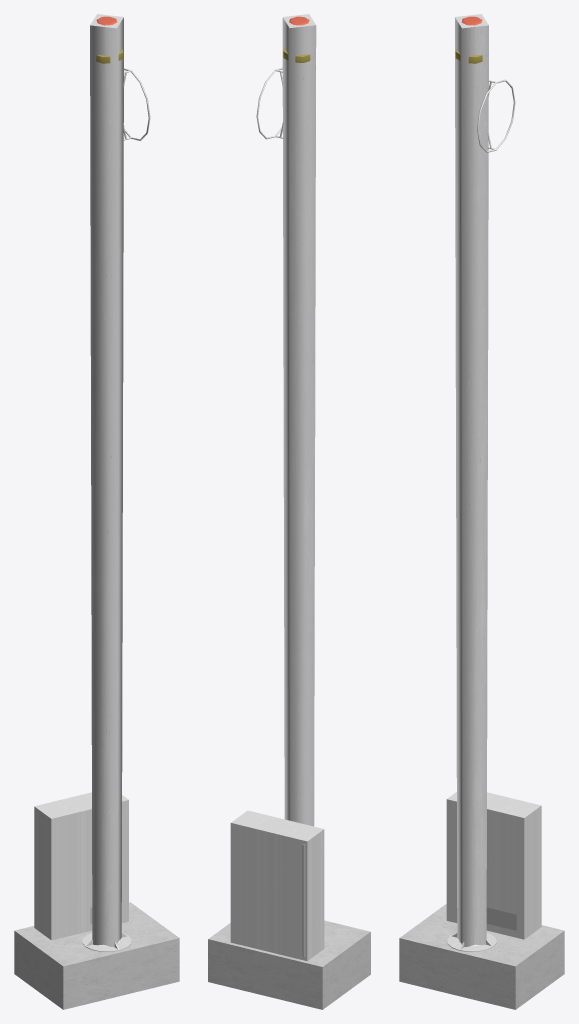
Rendered from si_wind_vane.DAE.
3 views of the same model, side by side, from view 1: azimuth 30°, elevation 25°; view 2: azimuth 150°, elevation 25°; view 3: azimuth 330°, elevation 25° (orthographic).
Parts seen in each view (by area): view 1: Colmesh-1, si_wind_vane650; view 2: Colmesh-1, si_wind_vane650; view 3: Colmesh-1, si_wind_vane650.
Boxes of the visible parts, left/top/right/bottom form: Colmesh-1: left=14, top=14, right=179, bottom=1009; si_wind_vane650: left=82, top=16, right=150, bottom=951; Colmesh-1: left=208, top=14, right=370, bottom=1009; si_wind_vane650: left=256, top=16, right=310, bottom=956; Colmesh-1: left=399, top=14, right=564, bottom=1009; si_wind_vane650: left=447, top=16, right=516, bottom=951.
Bounding box in the file's own units: 80.23 × 63.92 × 637.
